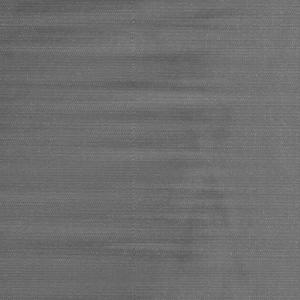Wrinkle: (1, 1, 300, 132)
